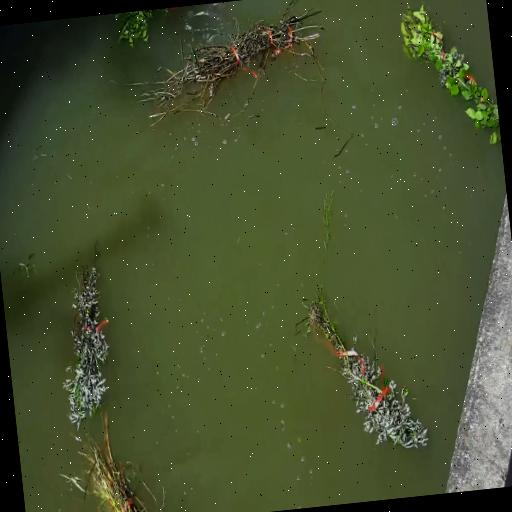twig: (296, 289, 428, 448), (147, 8, 322, 121), (401, 5, 499, 128), (64, 266, 109, 428), (79, 415, 149, 512), (116, 9, 153, 47)
